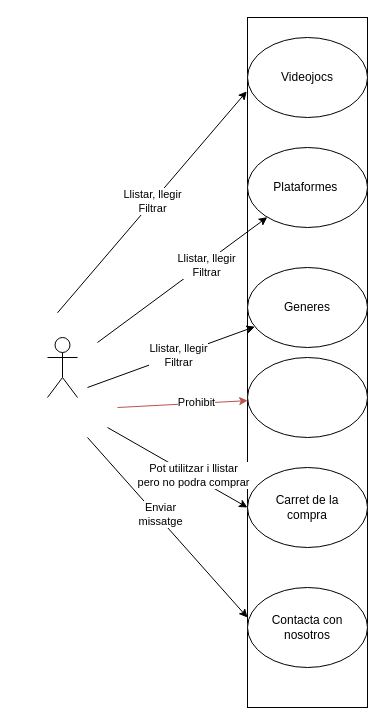
The diagram is 385 pixels wide and 725 high, and some of its shapes have lost their labels. Each missing label, with the centre of its shape:
Compres: point (307, 397)
Usuari no logejat: point (62, 367)
